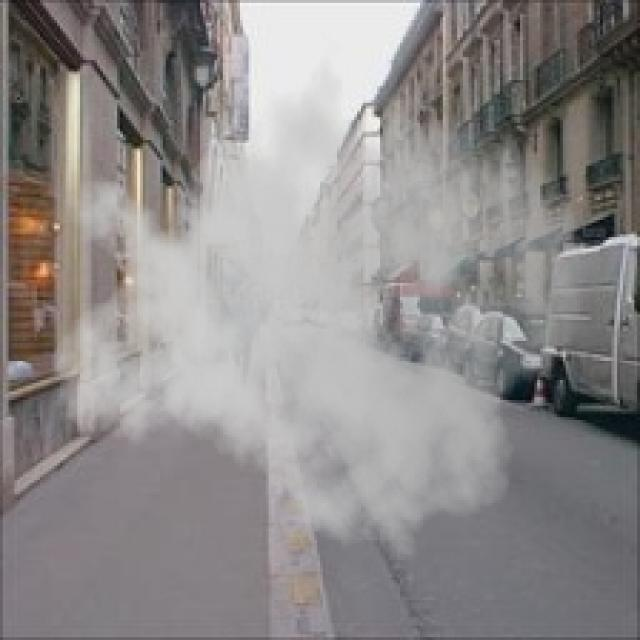smoke: (48, 32, 586, 574)
